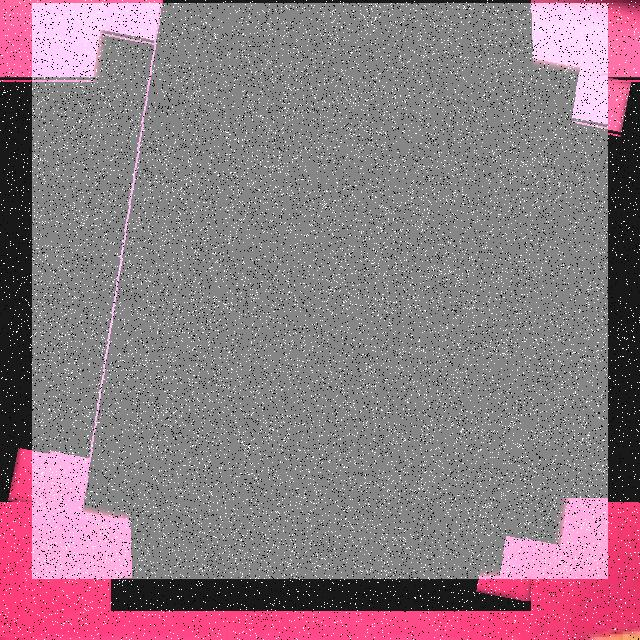dua ribu rupiah: (32, 3, 608, 579)
